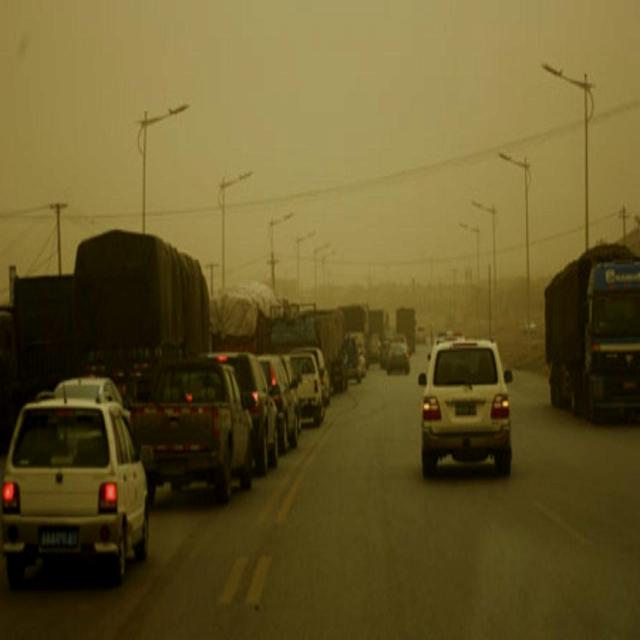Car: (2, 396, 146, 573), (139, 349, 249, 488), (418, 338, 514, 476), (384, 337, 412, 379)
Truck: (542, 248, 640, 417)
